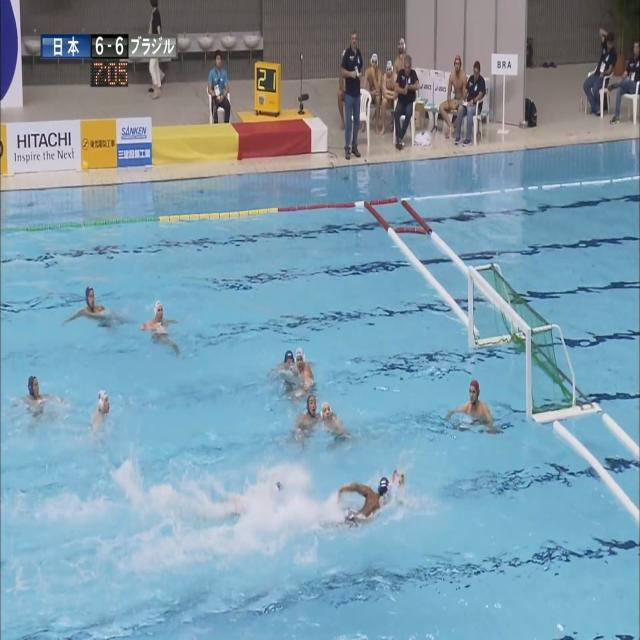ball: (392, 470, 404, 488)
